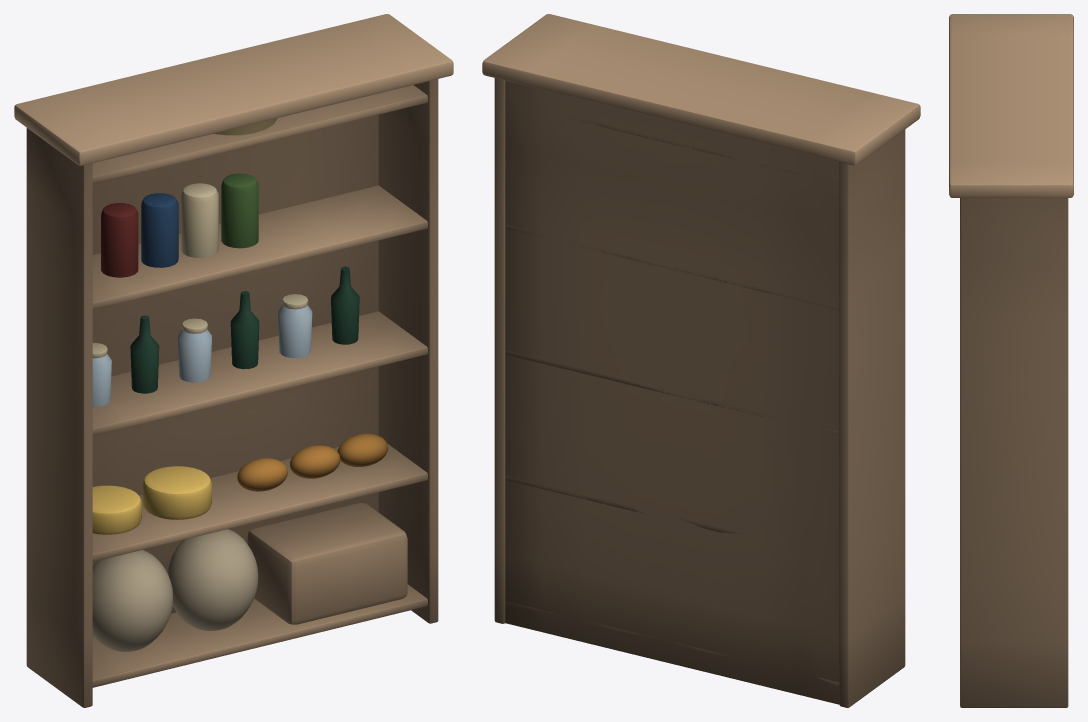
File: obj_kit_shopshelf.glb
3 views of the same model, side by side, from view 1: azimuth 30°, elevation 25°; view 2: azimuth 150°, elevation 25°; view 3: azimuth 270°, elevation 25° (orthographic). The views are drawn at different scales.
Visible parts, largest first — view 1: Cube, Cube.001, Cube.003, Cube.002, Cube.009, Cube.006, Cube.007, Cube.005, Cube.004, Sphere.001, Sphere, Cube.008 (+15 smaller); view 2: Cube, Cube.001, Cube.003, Cube.002, Cube.006, Cube.005, Cube.007; view 3: Cube.002, Cube.003.
Part boxes in pixels (x1,y1,x2,y2): Cube: [92, 114, 378, 613]; Cube.001: [26, 128, 92, 707]; Cube.003: [14, 14, 453, 165]; Cube.002: [378, 79, 438, 623]; Cube.009: [247, 502, 407, 624]; Cube.006: [92, 311, 427, 435]; Cube.007: [92, 185, 427, 309]; Cube.005: [92, 444, 427, 561]; Cube.004: [92, 584, 427, 687]; Sphere.001: [167, 529, 258, 630]; Sphere: [92, 550, 173, 651]; Cube.008: [92, 85, 427, 184]; Cube: [505, 80, 839, 704]; Cube.001: [839, 129, 905, 707]; Cube.003: [482, 14, 920, 165]; Cube.002: [494, 78, 505, 623]; Cube.006: [505, 350, 838, 434]; Cube.005: [505, 475, 835, 556]; Cube.007: [505, 224, 839, 310]; Cube.002: [960, 198, 1068, 707]; Cube.003: [949, 14, 1073, 197].
Bounding box in the file's own units: 1.5 × 2.15 × 0.46.
